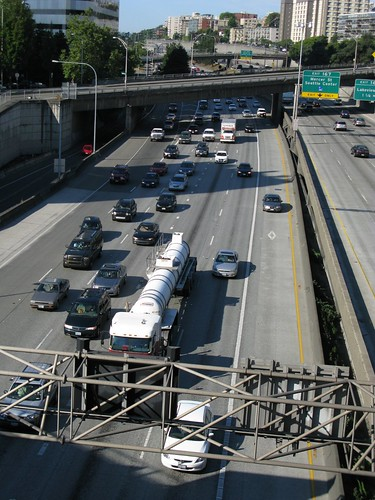bridge: (34, 54, 370, 138)
building: (269, 1, 375, 52), (42, 1, 123, 55), (168, 12, 219, 42), (219, 14, 270, 44)
car: (157, 398, 215, 475), (60, 221, 106, 272), (28, 265, 74, 316), (63, 288, 109, 339), (88, 260, 129, 293), (210, 249, 243, 281), (257, 190, 287, 217), (130, 221, 160, 248), (153, 188, 183, 215), (164, 169, 194, 196), (135, 168, 165, 195), (109, 197, 139, 224), (104, 162, 134, 189)
sign: (295, 67, 339, 103), (352, 74, 375, 106)
street: (1, 118, 280, 500), (287, 109, 375, 404)
tree: (54, 18, 110, 88), (1, 1, 34, 86)
truck: (109, 243, 200, 375)
